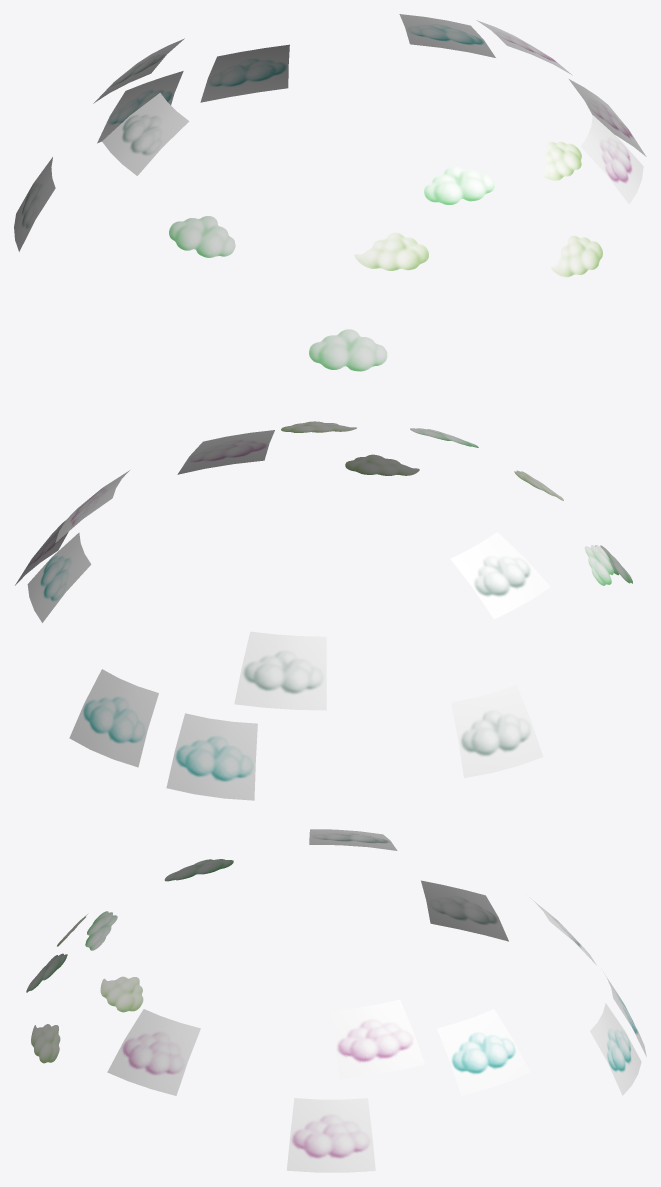
File: Sky.fbx
3 views of the same model, one above another, from view 1: azimuth 30°, elevation 25°; view 2: azimuth 150°, elevation 25°; view 3: azimuth 270°, elevation 25° (orthographic). The views are drawn at different scales.
Visible parts, largest first — view 1: P_126_Sky_final:town_sky_cloud_E1, P_126_Sky_final:town_sky_cloud_A2, P_126_Sky_final:town_sky_cloud_D, P_126_Sky_final:town_sky_cloud_B1, P_126_Sky_final:town_sky_cloud_E, P_126_Sky_final:town_sky_cloud_B, P_126_Sky_final:town_sky_cloud_B2, P_126_Sky_final:town_sky_cloud_C, P_126_Sky_final:town_sky_cloud_E2, P_126_Sky_final:town_sky_cloud_A1, P_126_Sky_final:town_sky_cloud_C1, P_126_Sky_final:town_sky_cloud_C2 (+3 smaller); view 2: P_126_Sky_final:town_sky_cloud_E2, P_126_Sky_final:town_sky_cloud_A, P_126_Sky_final:town_sky_cloud_A1, P_126_Sky_final:town_sky_cloud_E1, P_126_Sky_final:town_sky_cloud_A2, P_126_Sky_final:town_sky_cloud_E, P_126_Sky_final:town_sky_cloud_D, P_126_Sky_final:town_sky_cloud_C1, P_126_Sky_final:town_sky_cloud_D2, P_126_Sky_final:town_sky_cloud_B, P_126_Sky_final:town_sky_cloud_D1, P_126_Sky_final:town_sky_cloud_C2; view 3: P_126_Sky_final:town_sky_cloud_D1, P_126_Sky_final:town_sky_cloud_D2, P_126_Sky_final:town_sky_cloud_D, P_126_Sky_final:town_sky_cloud_E, P_126_Sky_final:town_sky_cloud_A1, P_126_Sky_final:town_sky_cloud_E1, P_126_Sky_final:town_sky_cloud_A2, P_126_Sky_final:town_sky_cloud_C2, P_126_Sky_final:town_sky_cloud_C1, P_126_Sky_final:town_sky_cloud_B, P_126_Sky_final:town_sky_cloud_B2, P_126_Sky_final:town_sky_cloud_B1.
Part boxes in pixels (<box>): P_126_Sky_final:town_sky_cloud_E1: <box>200,44,289,102</box>; P_126_Sky_final:town_sky_cloud_A2: <box>102,93,189,175</box>; P_126_Sky_final:town_sky_cloud_D: <box>581,115,643,204</box>; P_126_Sky_final:town_sky_cloud_B1: <box>309,329,387,371</box>; P_126_Sky_final:town_sky_cloud_E: <box>399,14,495,57</box>; P_126_Sky_final:town_sky_cloud_B: <box>169,216,235,257</box>; P_126_Sky_final:town_sky_cloud_B2: <box>424,166,494,204</box>; P_126_Sky_final:town_sky_cloud_C: <box>354,232,428,270</box>; P_126_Sky_final:town_sky_cloud_E2: <box>97,71,183,143</box>; P_126_Sky_final:town_sky_cloud_A1: <box>14,157,55,251</box>; P_126_Sky_final:town_sky_cloud_C1: <box>551,235,602,277</box>; P_126_Sky_final:town_sky_cloud_C2: <box>541,141,581,180</box>; P_126_Sky_final:town_sky_cloud_E2: <box>166,713,257,800</box>; P_126_Sky_final:town_sky_cloud_A: <box>234,631,326,710</box>; P_126_Sky_final:town_sky_cloud_A1: <box>451,685,543,778</box>; P_126_Sky_final:town_sky_cloud_E1: <box>69,669,158,767</box>; P_126_Sky_final:town_sky_cloud_A2: <box>450,532,550,619</box>; P_126_Sky_final:town_sky_cloud_E: <box>27,532,91,622</box>; P_126_Sky_final:town_sky_cloud_D: <box>177,430,274,474</box>; P_126_Sky_final:town_sky_cloud_C1: <box>345,454,419,475</box>; P_126_Sky_final:town_sky_cloud_D2: <box>55,470,129,542</box>; P_126_Sky_final:town_sky_cloud_B: <box>584,545,613,585</box>; P_126_Sky_final:town_sky_cloud_D1: <box>15,520,68,585</box>; P_126_Sky_final:town_sky_cloud_C2: <box>281,421,356,432</box>; P_126_Sky_final:town_sky_cloud_D1: <box>286,1098,375,1172</box>; P_126_Sky_final:town_sky_cloud_D2: <box>329,999,424,1078</box>; P_126_Sky_final:town_sky_cloud_D: <box>107,1009,200,1095</box>; P_126_Sky_final:town_sky_cloud_E: <box>437,1009,530,1095</box>; P_126_Sky_final:town_sky_cloud_A1: <box>421,880,508,941</box>; P_126_Sky_final:town_sky_cloud_E1: <box>590,1003,641,1095</box>; P_126_Sky_final:town_sky_cloud_A2: <box>309,829,397,850</box>; P_126_Sky_final:town_sky_cloud_C2: <box>100,976,143,1012</box>; P_126_Sky_final:town_sky_cloud_C1: <box>31,1024,60,1063</box>; P_126_Sky_final:town_sky_cloud_B: <box>164,859,233,881</box>; P_126_Sky_final:town_sky_cloud_B2: <box>85,911,117,950</box>; P_126_Sky_final:town_sky_cloud_B1: <box>26,953,67,992</box>.
Bounding box in the file's own units: 7042 × 2022 × 7197.
